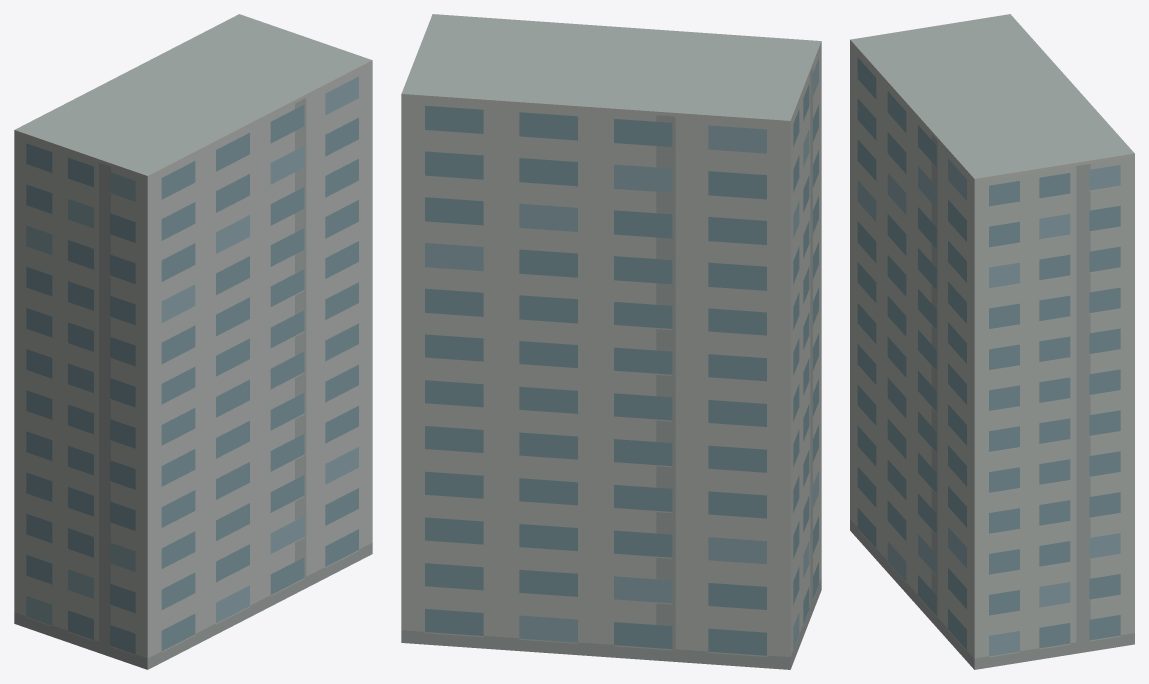
File: residential-fb8263d8-ff94-49f0-a988-10484be61692.glb
3 views of the same model, side by side, from view 1: azimuth 30°, elevation 25°; view 2: azimuth 150°, elevation 25°; view 3: azimuth 270°, elevation 25° (orthographic). The views are drawn at different scales.
Parts seen in each view (by area): view 1: residential-fb8263d8-ff94-49f0-a988-10484be61692.tmp; view 2: residential-fb8263d8-ff94-49f0-a988-10484be61692.tmp; view 3: residential-fb8263d8-ff94-49f0-a988-10484be61692.tmp.
Part boxes in pixels (x1,y1,x2,y2): residential-fb8263d8-ff94-49f0-a988-10484be61692.tmp: [14, 14, 372, 669]; residential-fb8263d8-ff94-49f0-a988-10484be61692.tmp: [401, 14, 821, 669]; residential-fb8263d8-ff94-49f0-a988-10484be61692.tmp: [850, 14, 1134, 669].
Size of the model in its own units: 26.39 by 36.6 by 19.25.
